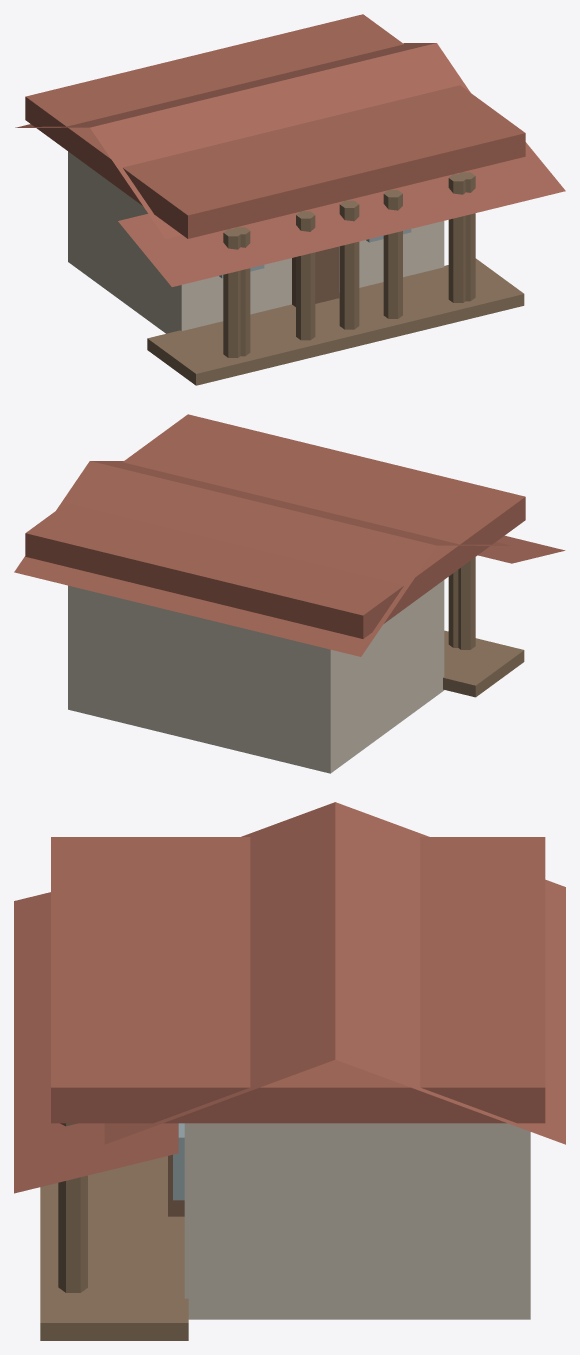
The model's file is shed.glb.
3 views of the same model, one above another, from view 1: azimuth 30°, elevation 25°; view 2: azimuth 150°, elevation 25°; view 3: azimuth 270°, elevation 25° (orthographic). The views are drawn at different scales.
Parts seen in each view (by area): view 1: near, far; view 2: near, far; view 3: near, far.
Boxes of the visible parts, <box> form: near: <box>15,43,565,385</box>; far: <box>25,14,525,356</box>; near: <box>14,461,565,773</box>; far: <box>25,414,525,647</box>; near: <box>14,802,565,1340</box>; far: <box>51,837,545,1123</box>.
Bounding box in the file's own units: 2.1 × 0.975 × 1.68.
